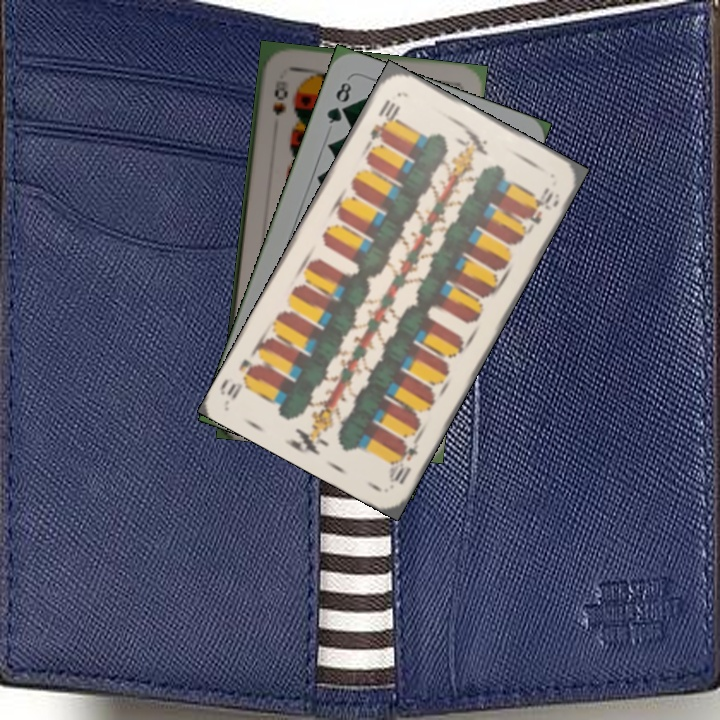E10: (384, 434, 422, 487), (366, 95, 402, 143)
G8: (322, 75, 354, 126)
S8: (268, 76, 290, 118)
